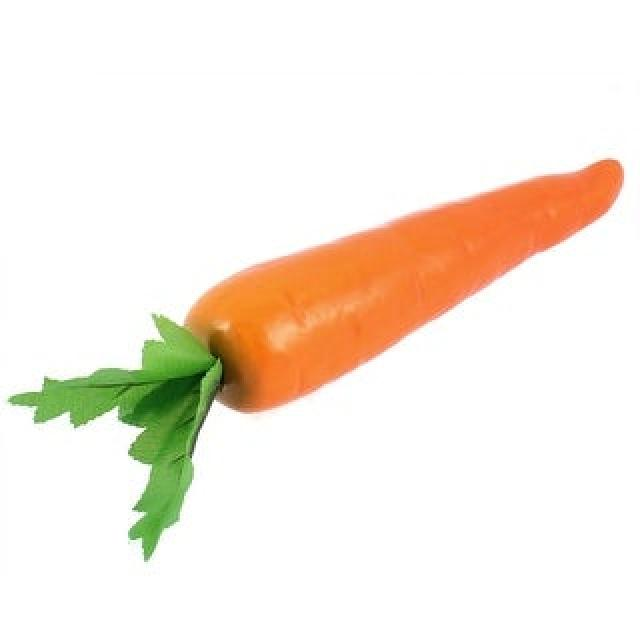Carrot: (45, 159, 640, 481)
